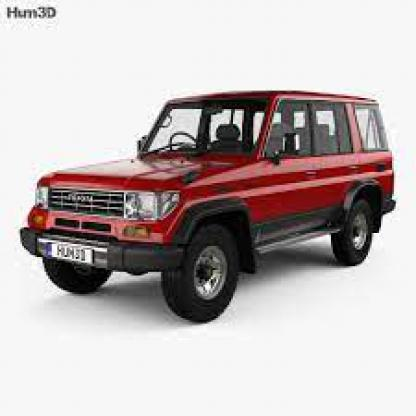jeep: (20, 87, 396, 323)
